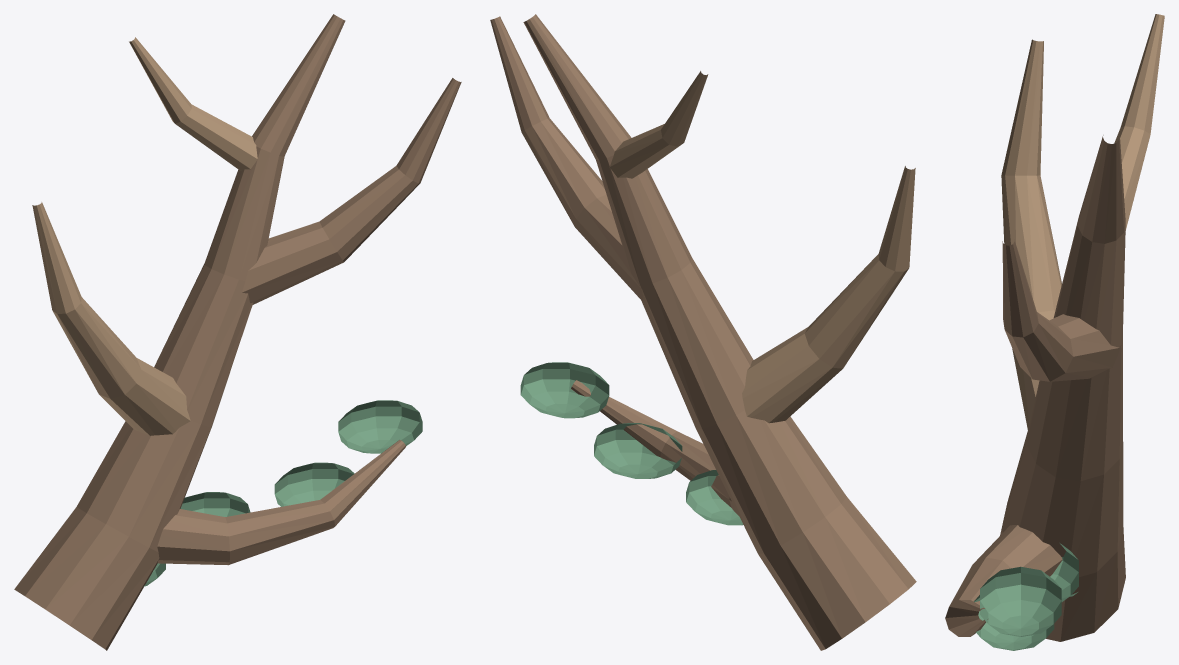
The model's file is env-root-wall-a.gltf.
3 views of the same model, side by side, from view 1: azimuth 30°, elevation 25°; view 2: azimuth 150°, elevation 25°; view 3: azimuth 270°, elevation 25° (orthographic). The views are drawn at different scales.
Parts seen in each view (by area): view 1: root; view 2: root; view 3: root.
Boxes of the visible parts, bbox=[...] form: root: bbox=[14, 14, 461, 650]; root: bbox=[490, 14, 916, 650]; root: bbox=[945, 14, 1164, 650].
Bounding box in the file's own units: 2.38 × 3.04 × 0.8984.
